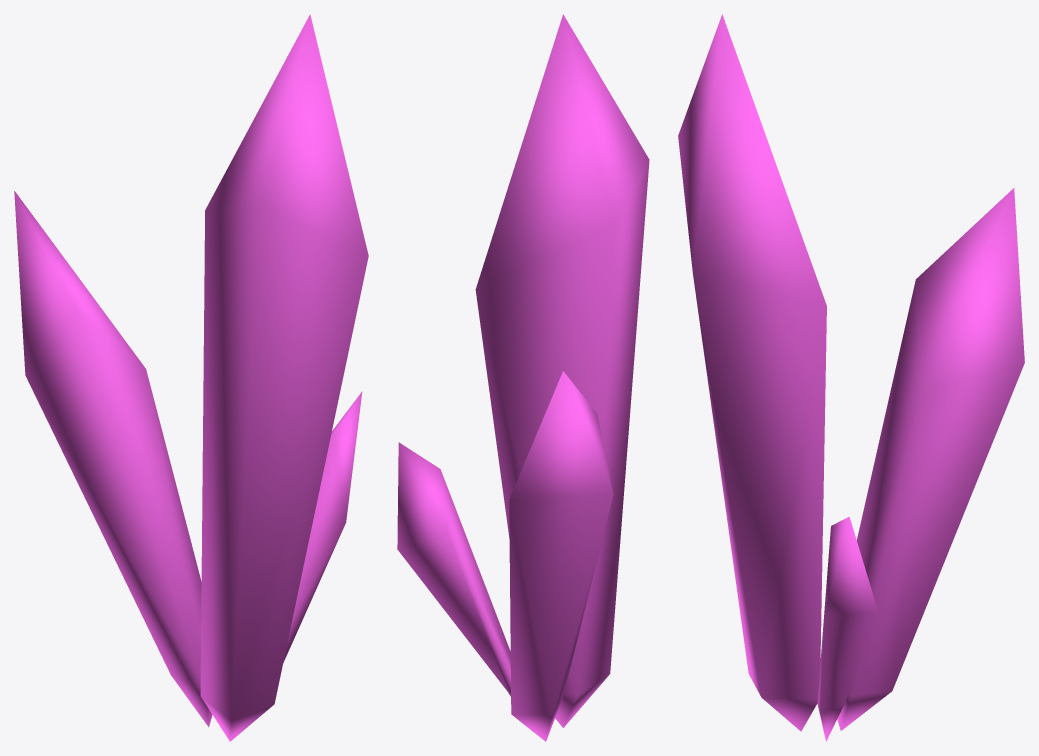
Rendered from prototype_shards.obj.
3 renders of one model, left to right at view 1: azimuth 30°, elevation 25°; view 2: azimuth 150°, elevation 25°; view 3: azimuth 270°, elevation 25°, orthographic. The views are drawn at different scales.
Visible parts, largest first — view 1: Cube; view 2: Cube; view 3: Cube.
Boxes of the visible parts, bbox=[...] form: Cube: bbox=[14, 14, 368, 741]; Cube: bbox=[397, 14, 649, 741]; Cube: bbox=[678, 14, 1024, 741].
Size of the model in its own units: 0.1 by 0.249 by 0.1062.
